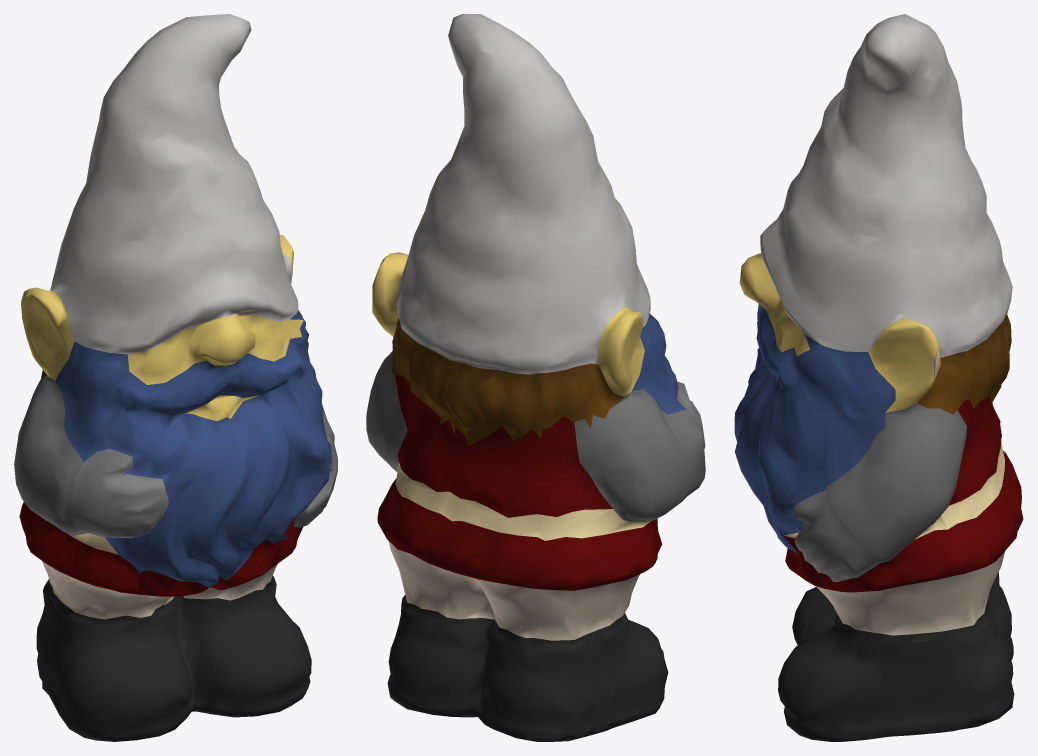
The model's file is gnome_unique_mats.glb.
The picture shows the model from 3 angles, left to right: view 1: azimuth 30°, elevation 25°; view 2: azimuth 150°, elevation 25°; view 3: azimuth 270°, elevation 25°; orthographic projection. The views are drawn at different scales.
Parts seen in each view (by area): view 1: geo1; view 2: geo1; view 3: geo1.
Part boxes in pixels (x1,y1,x2,y2): geo1: (14, 14, 337, 741); geo1: (366, 14, 705, 741); geo1: (734, 14, 1023, 741).
Size of the model in its own units: 1.12 by 2.42 by 0.9084.
Materials: 11 (1 with a texture image).
